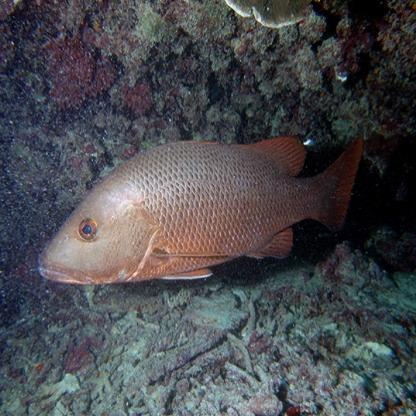snapper: (37, 125, 376, 295)
